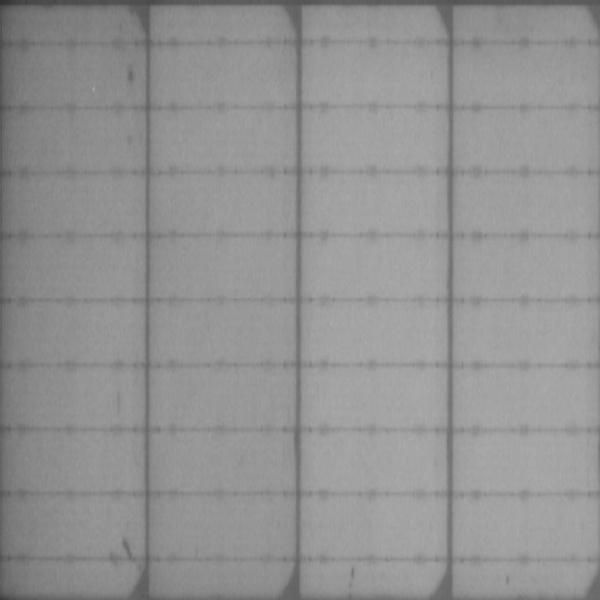scratch: (117, 538, 137, 564)
